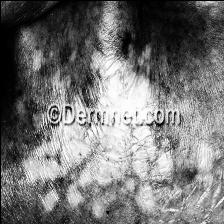Non-Cancerous Skin Condition: (30, 142, 207, 224), (77, 0, 184, 99)
